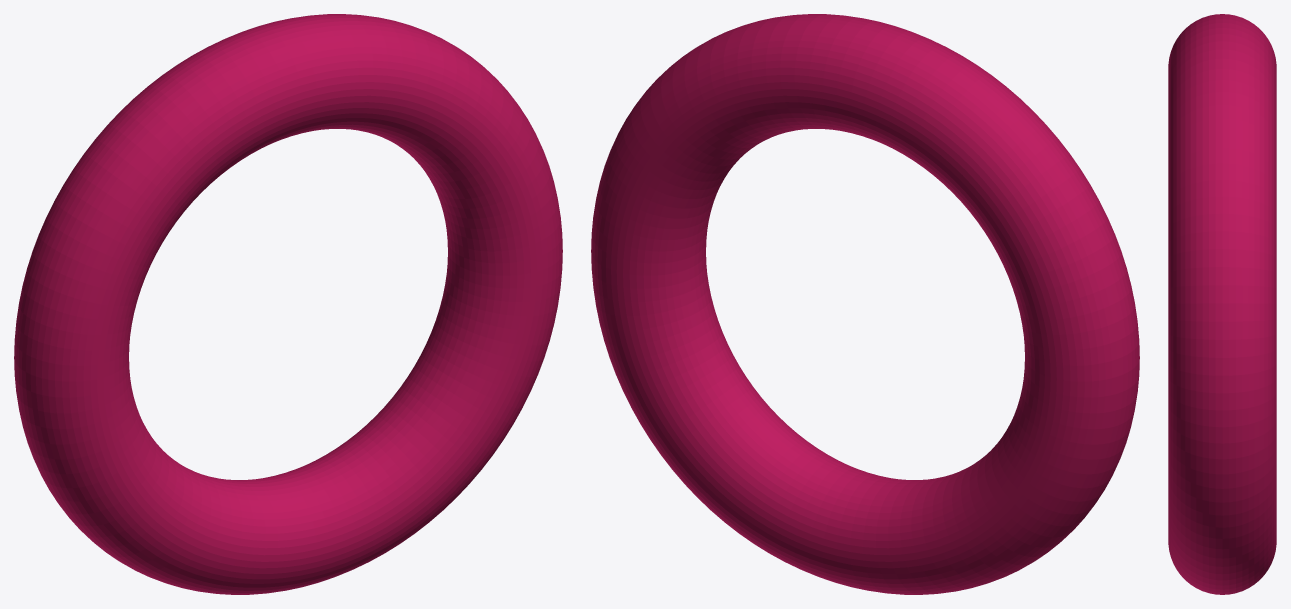
3 renders of one model, left to right at view 1: azimuth 30°, elevation 25°; view 2: azimuth 150°, elevation 25°; view 3: azimuth 270°, elevation 25°, orthographic. The views are drawn at different scales.
Parts seen in each view (by area): view 1: world; view 2: world; view 3: world.
Part boxes in pixels (x1,y1,x2,y2): world: [14, 14, 562, 594]; world: [591, 14, 1139, 594]; world: [1168, 14, 1276, 594].
Size of the model in its own units: 27.87 by 27.87 by 5.19.
